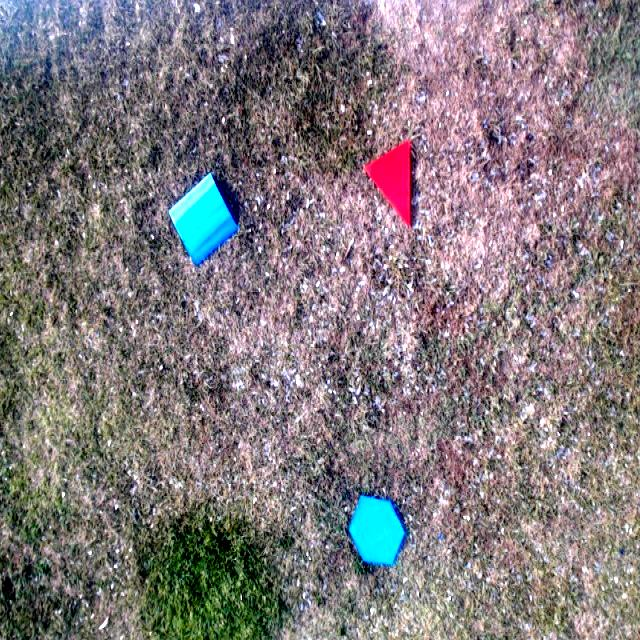blue_hexagon: (349, 494, 404, 567)
blue_square: (170, 174, 237, 264)
red_triangle: (364, 141, 410, 224)
